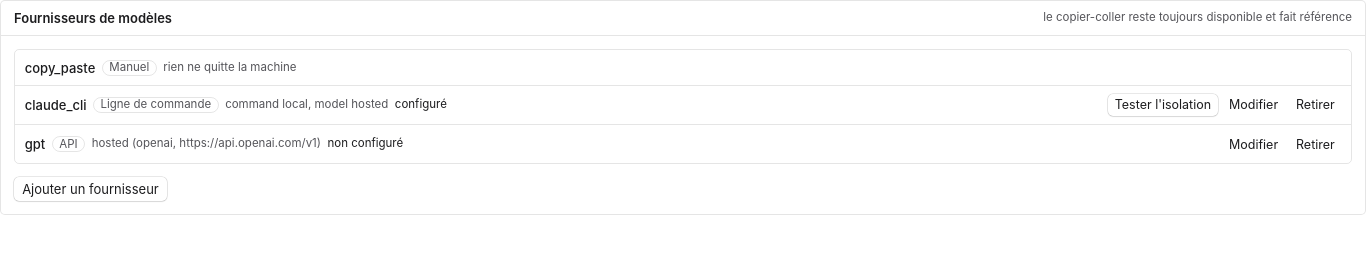
Test: model providers › shows a server refusal of the providers configuration
Check: the text "claude_cli" is shown, box [25, 96, 86, 114]
Step 1. Click the button with aria-label "Retirer gpt" → [1315, 144], box [1290, 133, 1341, 155]
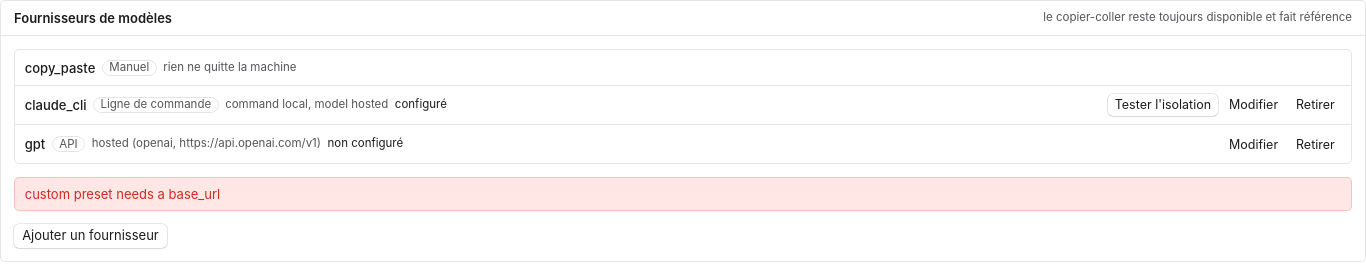
Check: the message reads "custom preset needs a base_url", box [25, 186, 220, 202]
